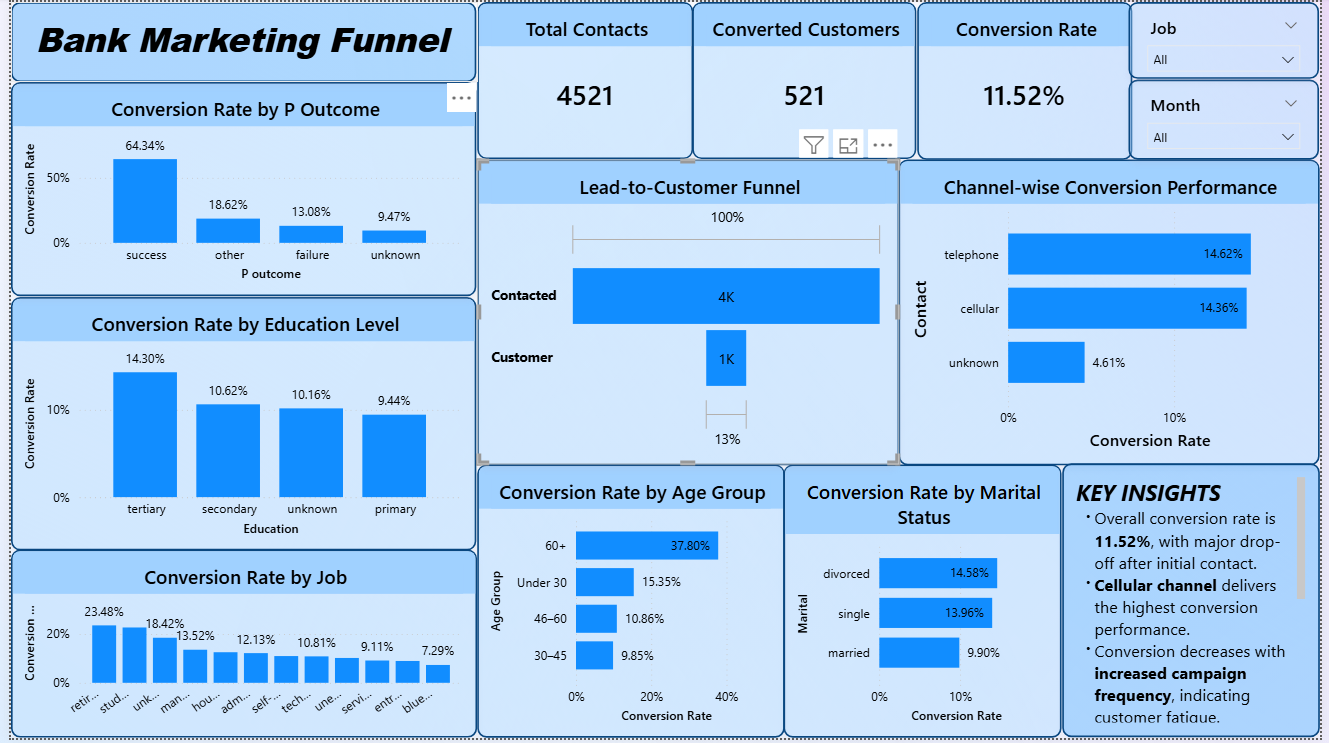

This screenshot's page, from the dashboard's own definition file:
{"tool":"powerbi","page":{"name":"Page 1","canvas":[1280,720],"ordinal":0},"visuals":[{"type":"card","title":"Total Contacts","fields":{"Values":["Cleaned_Bank_data.Total Contacts"]},"box":[455.6,0,211.3,153.7],"z":0},{"type":"card","title":"Converted Customers","fields":{"Values":["Cleaned_Bank_data.Total Customers"]},"box":[666.9,0,219.6,153.7],"z":1000},{"type":"card","title":"Conversion Rate","fields":{"Values":["Cleaned_Bank_data.Conversion Rate"]},"box":[886.6,0,210.3,154.1],"z":2000},{"type":"funnel","title":"Lead-to-Customer Funnel","fields":{"Y":["Cleaned_Bank_data.Funnel Count"],"Category":["Cleaned_Bank_data.Funnel Stage"]},"box":[455.6,153.7,413,299.1],"z":3000},{"type":"clusteredBarChart","title":"Channel-wise Conversion Performance","fields":{"Category":["Cleaned_Bank_data.Contact"],"Y":["Cleaned_Bank_data.Conversion Rate"]},"box":[868.6,153.7,411.7,299.1],"z":4000},{"type":"slicer","fields":{"Values":["Cleaned_Bank_data.Month"]},"box":[1093.7,75.5,186.6,78.2],"z":5000},{"type":"slicer","fields":{"Values":["Cleaned_Bank_data.Job"]},"box":[1093.7,0,186.6,75.5],"z":6000},{"type":"clusteredBarChart","title":"Conversion Rate by Marital Status","fields":{"Category":["Cleaned_Bank_data.Marital"],"Y":["Cleaned_Bank_data.Conversion Rate"]},"box":[756.1,452.8,271.7,267.6],"z":7000},{"type":"clusteredColumnChart","title":"Conversion Rate by Education Level","fields":{"Category":["Cleaned_Bank_data.Education"],"Y":["Cleaned_Bank_data.Conversion Rate"]},"box":[0,288.2,455.6,248.4],"z":8000},{"type":"clusteredBarChart","fields":{"Category":["Cleaned_Bank_data.Age Group"],"Y":["Cleaned_Bank_data.Conversion Rate"]},"box":[455.6,452.8,300.5,267.6],"z":9000},{"type":"clusteredColumnChart","title":"Conversion Rate by P Outcome","fields":{"Y":["Cleaned_Bank_data.Conversion Rate"],"Category":["Cleaned_Bank_data.P out Come"]},"box":[0,78.2,455.6,209.9],"z":10000},{"type":"textbox","title":"Bank Marketing Funnel","box":[0,0,455.6,78.2],"z":11000},{"type":"clusteredColumnChart","fields":{"Category":["Cleaned_Bank_data.Job"],"Y":["Cleaned_Bank_data.Conversion Rate"]},"box":[0,536,456,184],"z":12000},{"type":"textbox","box":[1028.4,451.2,251.9,267.8],"z":13000}]}

Visuals, with their boxes in screenshot pixels (x1, y1, x2, y2), scaled from the page's 1280x720 canvas onto the 1329x743 screenshot:
"Total Contacts" card: bbox(473, 0, 692, 159)
"Converted Customers" card: bbox(692, 0, 920, 159)
"Conversion Rate" card: bbox(921, 0, 1139, 159)
"Lead-to-Customer Funnel" funnel: bbox(473, 159, 902, 467)
"Channel-wise Conversion Performance" clusteredBarChart: bbox(902, 159, 1328, 467)
slicer - Cleaned_Bank_data.Month: bbox(1136, 78, 1328, 159)
slicer - Cleaned_Bank_data.Job: bbox(1136, 0, 1328, 78)
"Conversion Rate by Marital Status" clusteredBarChart: bbox(785, 467, 1067, 742)
"Conversion Rate by Education Level" clusteredColumnChart: bbox(0, 297, 473, 554)
clusteredBarChart - Cleaned_Bank_data.Age Group x Cleaned_Bank_data.Conversion Rate: bbox(473, 467, 785, 742)
"Conversion Rate by P Outcome" clusteredColumnChart: bbox(0, 81, 473, 297)
"Bank Marketing Funnel" textbox: bbox(0, 0, 473, 81)
clusteredColumnChart - Cleaned_Bank_data.Job x Cleaned_Bank_data.Conversion Rate: bbox(0, 553, 473, 742)
textbox: bbox(1068, 466, 1328, 742)
